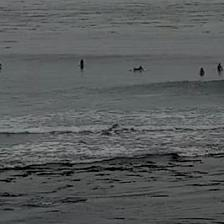surfer: (217, 63, 224, 71), (133, 66, 144, 71), (80, 59, 84, 67), (200, 68, 204, 76), (0, 60, 3, 69)
